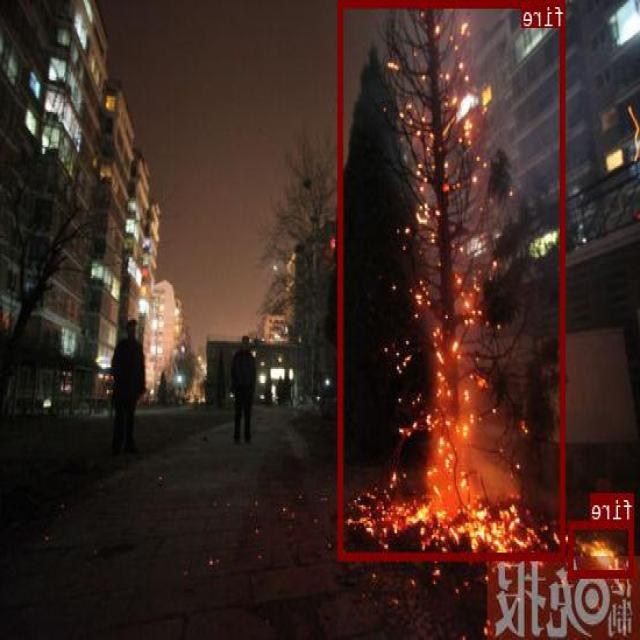fire: (338, 0, 566, 560), (570, 521, 634, 576)
